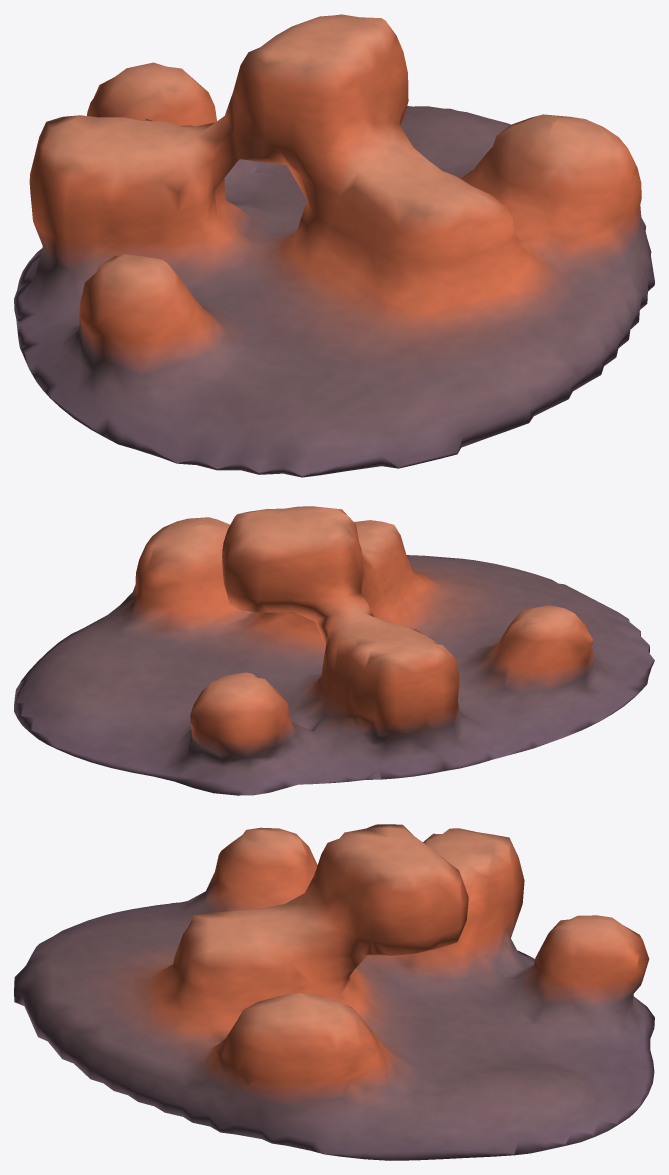
File: kil_yatagi.glb
3 renders of one model, top to bottom at view 1: azimuth 30°, elevation 25°; view 2: azimuth 150°, elevation 25°; view 3: azimuth 270°, elevation 25°, orthographic. The views are drawn at different scales.
Parts seen in each view (by area): view 1: kil_yatagi; view 2: kil_yatagi; view 3: kil_yatagi.
Boxes of the visible parts, x1=… form: kil_yatagi: x1=14, y1=14, x2=654, y2=477; kil_yatagi: x1=14, y1=506, x2=654, y2=795; kil_yatagi: x1=14, y1=824, x2=654, y2=1160.
Size of the model in its own units: 1.6 by 0.55 by 1.66.
1 material, 1 textured.
